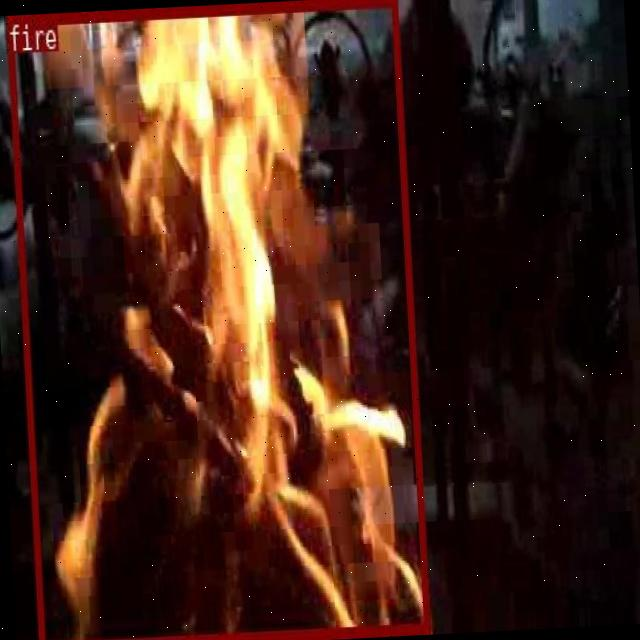fire: (5, 0, 428, 640)
